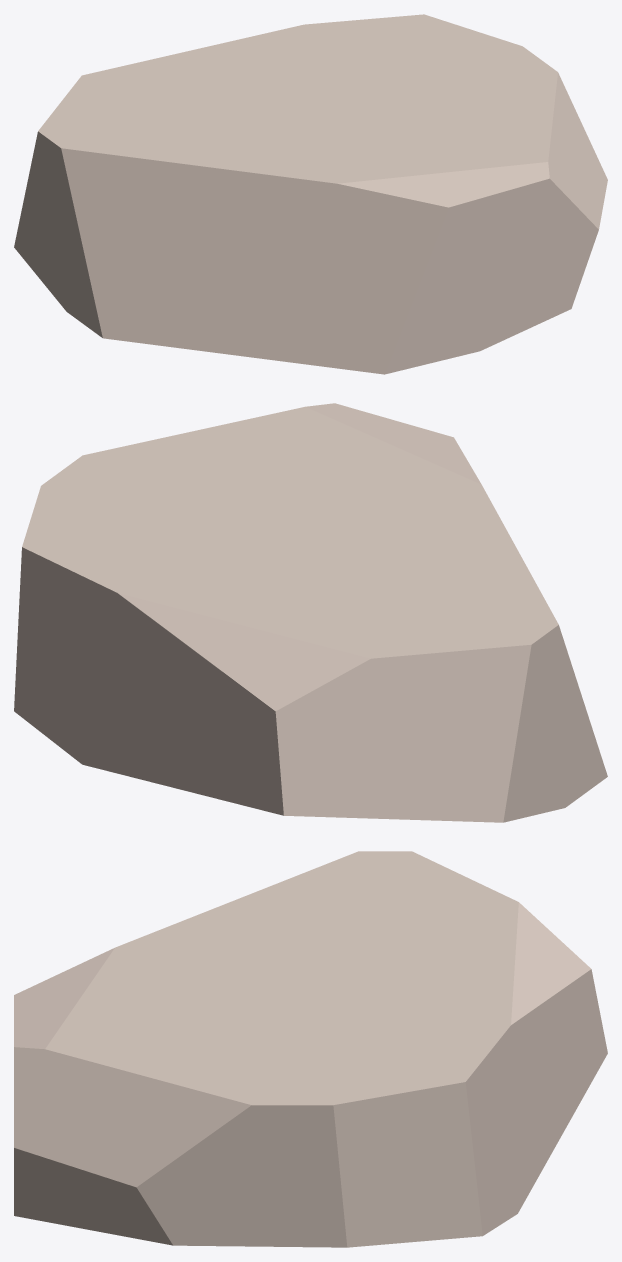
The model's file is stone2.fbx.
3 renders of one model, top to bottom at view 1: azimuth 30°, elevation 25°; view 2: azimuth 150°, elevation 25°; view 3: azimuth 270°, elevation 25°, orthographic. The views are drawn at different scales.
Parts seen in each view (by area): view 1: 立方体.001; view 2: 立方体.001; view 3: 立方体.001.
Boxes of the visible parts, x1,y1,x2,y2 form: 立方体.001: [14, 14, 607, 374]; 立方体.001: [14, 403, 607, 822]; 立方体.001: [14, 851, 607, 1247].
Bounding box in the file's own units: 124 × 41.86 × 122.
